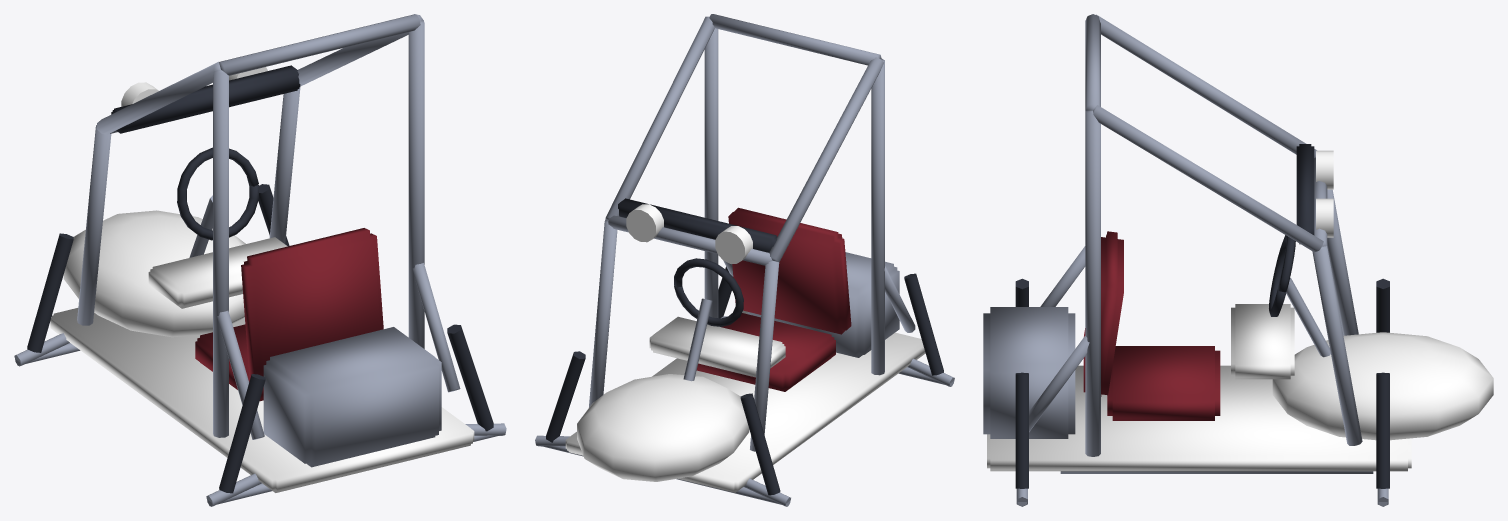
Rendered from part_rover.glb.
The picture shows the model from 3 angles, left to right: view 1: azimuth 30°, elevation 25°; view 2: azimuth 150°, elevation 25°; view 3: azimuth 270°, elevation 25°; orthographic projection. The views are drawn at different scales.
Visible parts, largest first — view 1: part_rover; view 2: part_rover; view 3: part_rover.
Part boxes in pixels (x1,y1,x2,y2): part_rover: [14, 14, 506, 506]; part_rover: [535, 14, 954, 506]; part_rover: [983, 14, 1493, 506].
Bounding box in the file's own units: 0.9076 × 1.19 × 1.44.
